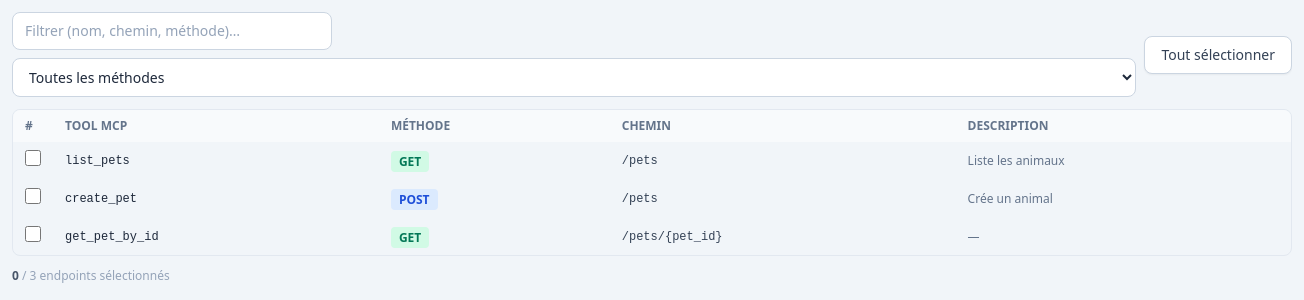
Test case: EndpointsTable › filtre par nom
Type "create" into the field with test id "filter-input" at (172,31), box [12,12,332,50]
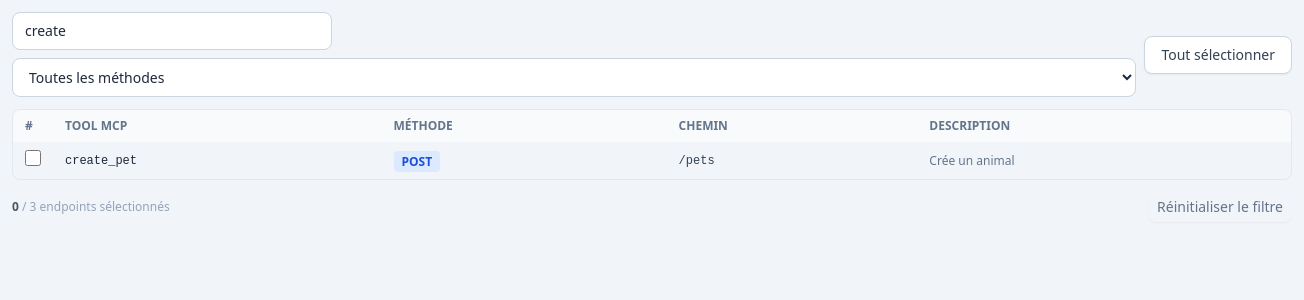
Check: the text "create_pet" is shown, box [53,142,382,179]
Check: the text "list_pets" is gone
